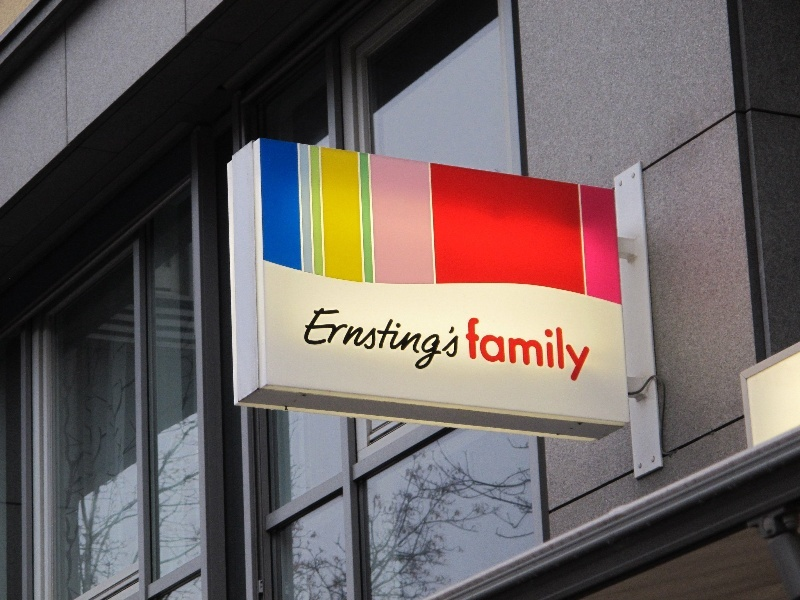text: (321, 306, 336, 373), (337, 306, 352, 373), (353, 306, 368, 373), (369, 306, 384, 373), (385, 306, 400, 373), (401, 306, 416, 373), (417, 306, 432, 373), (433, 306, 448, 373), (481, 317, 496, 382), (497, 317, 512, 382), (513, 317, 528, 382), (529, 317, 544, 382), (545, 317, 560, 382), (561, 317, 576, 382), (577, 317, 591, 382), (467, 317, 480, 382), (309, 306, 320, 373), (449, 306, 459, 373)
